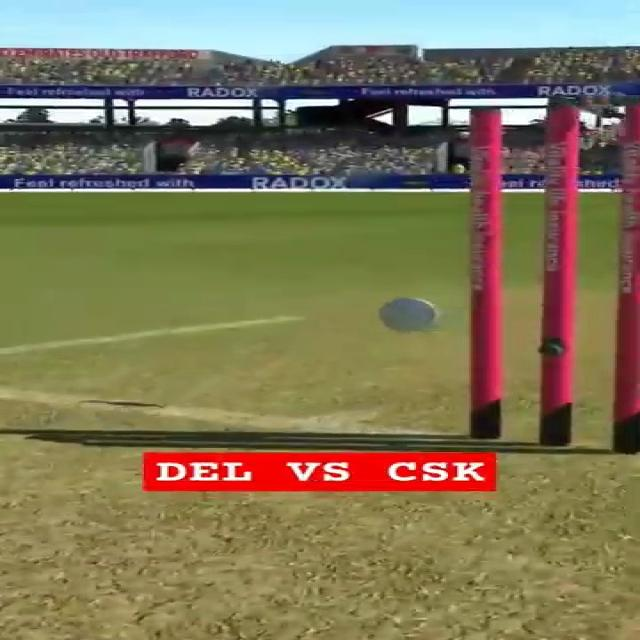ball: (372, 291, 441, 332)
